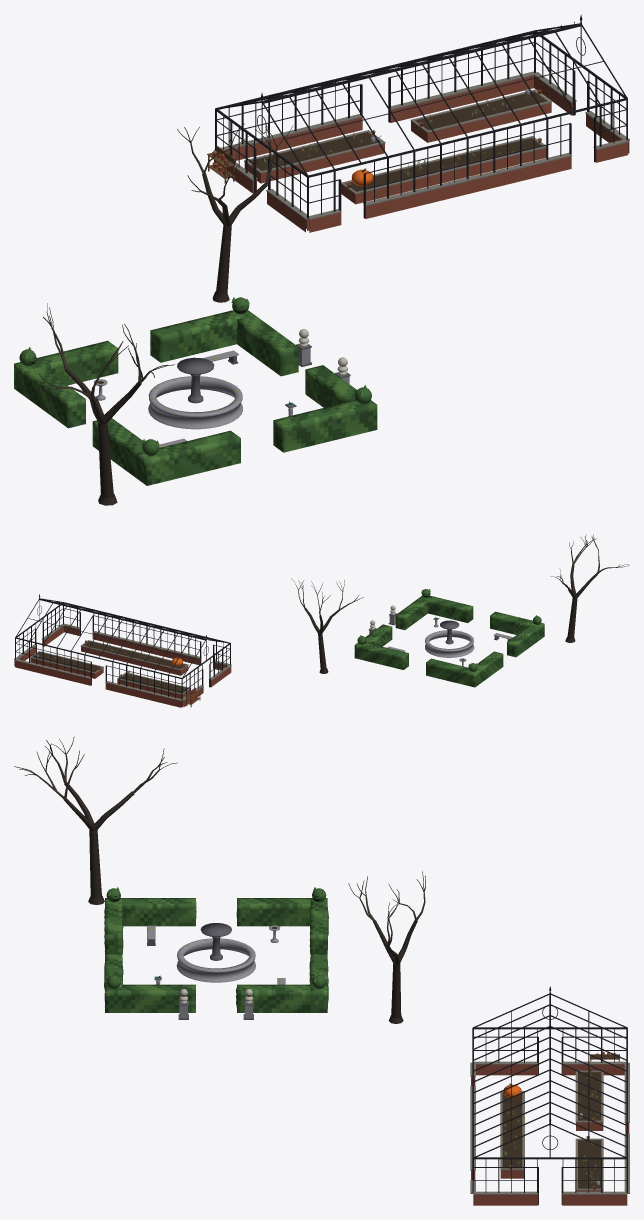
The model's file is hg-garden.glb.
3 renders of one model, top to bottom at view 1: azimuth 30°, elevation 25°; view 2: azimuth 150°, elevation 25°; view 3: azimuth 270°, elevation 25°, orthographic. The views are drawn at different scales.
Visible parts, largest first — view 1: hg-garden; view 2: hg-garden; view 3: hg-garden.
Boxes of the visible parts, x1,y1,x2,y2 form: hg-garden: (14, 14, 629, 505); hg-garden: (14, 534, 629, 707); hg-garden: (14, 736, 629, 1205).
Bounding box in the file's own units: 47.32 × 10.07 × 35.99.
